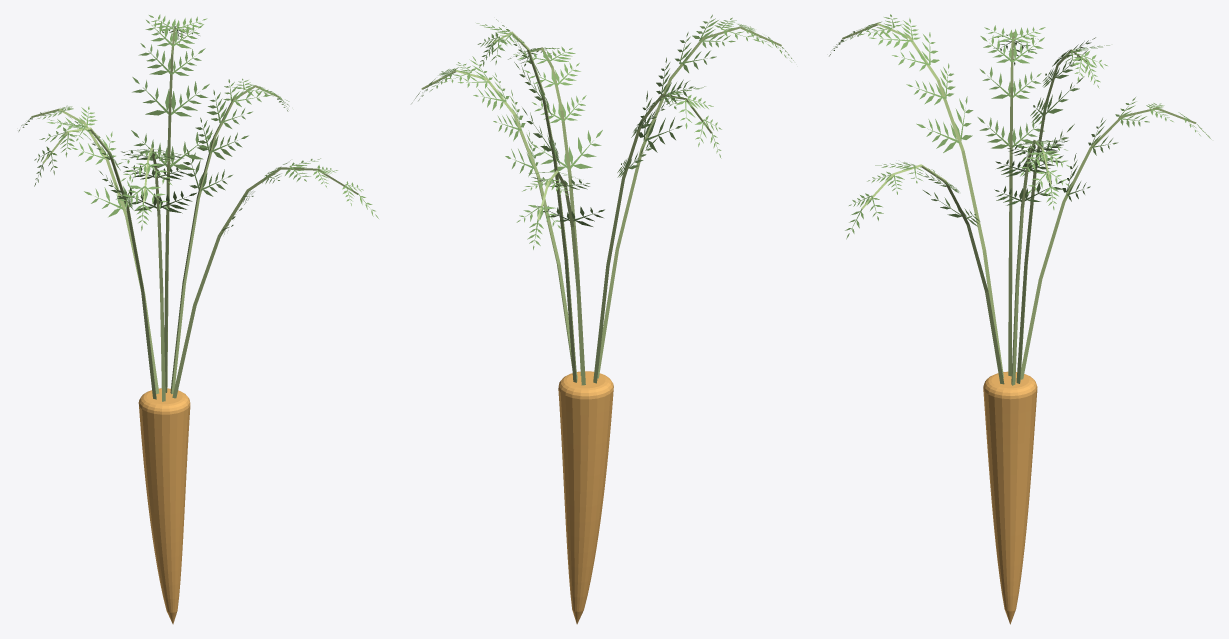
File: carrot_harvest_v03.glb
The picture shows the model from 3 angles, left to right: view 1: azimuth 30°, elevation 25°; view 2: azimuth 150°, elevation 25°; view 3: azimuth 270°, elevation 25°; orthographic projection. The views are drawn at different scales.
Visible parts, largest first — view 1: plant; view 2: plant; view 3: plant.
Part boxes in pixels (x1=…): plant: x1=18, y1=14, x2=378, y2=624; plant: x1=411, y1=14, x2=793, y2=624; plant: x1=829, y1=14, x2=1211, y2=624.
Size of the model in its own units: 0.2011 by 0.4022 by 0.2372.
1 material, 1 textured.
